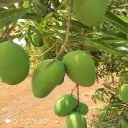mango: (32, 60, 65, 98)
